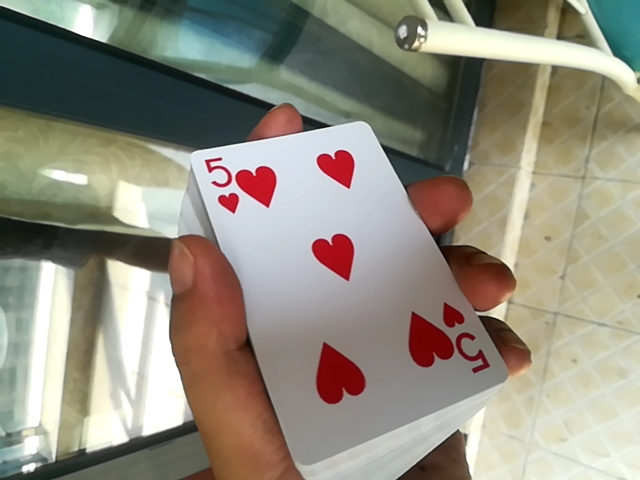hx 5: (164, 105, 499, 456)
